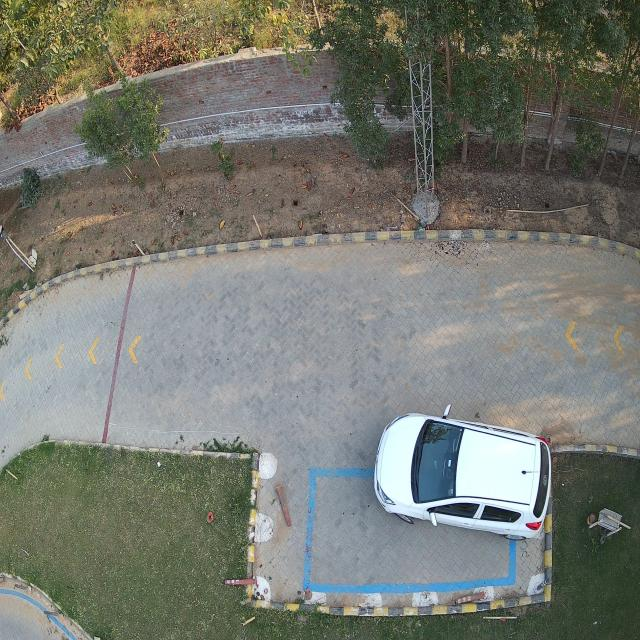car: (374, 413, 551, 540)
